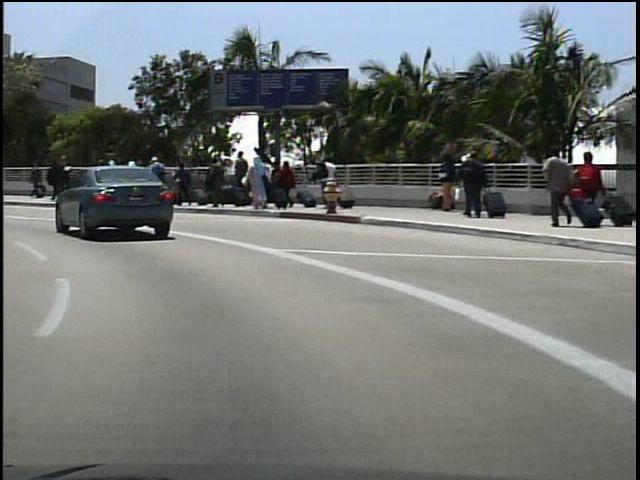person: (538, 148, 572, 228), (572, 148, 603, 226), (454, 150, 482, 218), (313, 152, 339, 205), (48, 153, 73, 205), (44, 154, 70, 198), (25, 160, 44, 201)
